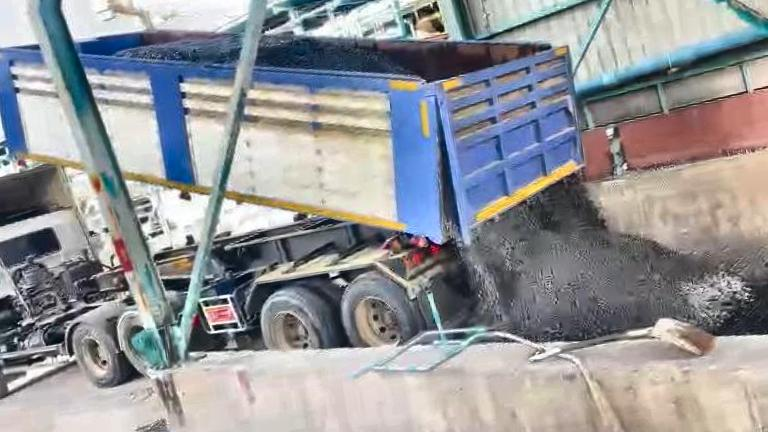gravel: (462, 177, 749, 340), (257, 34, 411, 73), (116, 36, 239, 63), (62, 420, 196, 432)
